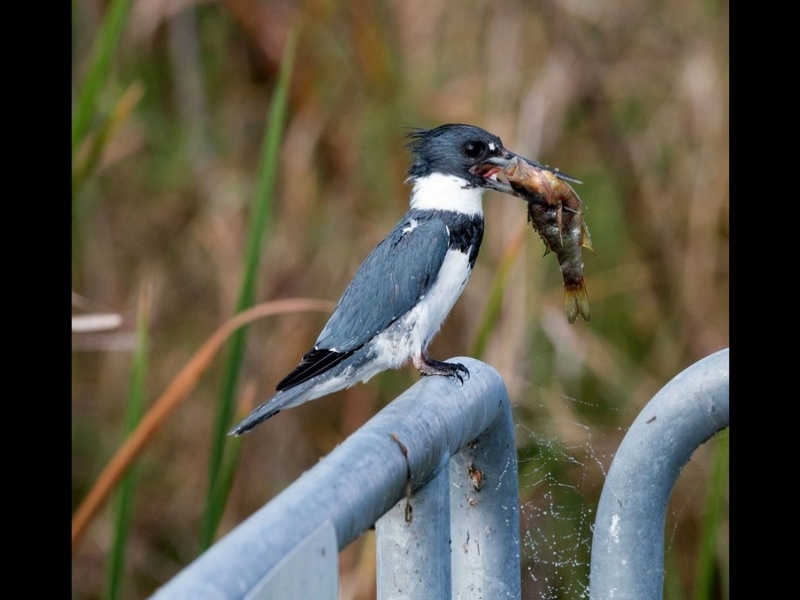kingfisher: (224, 117, 588, 448)
